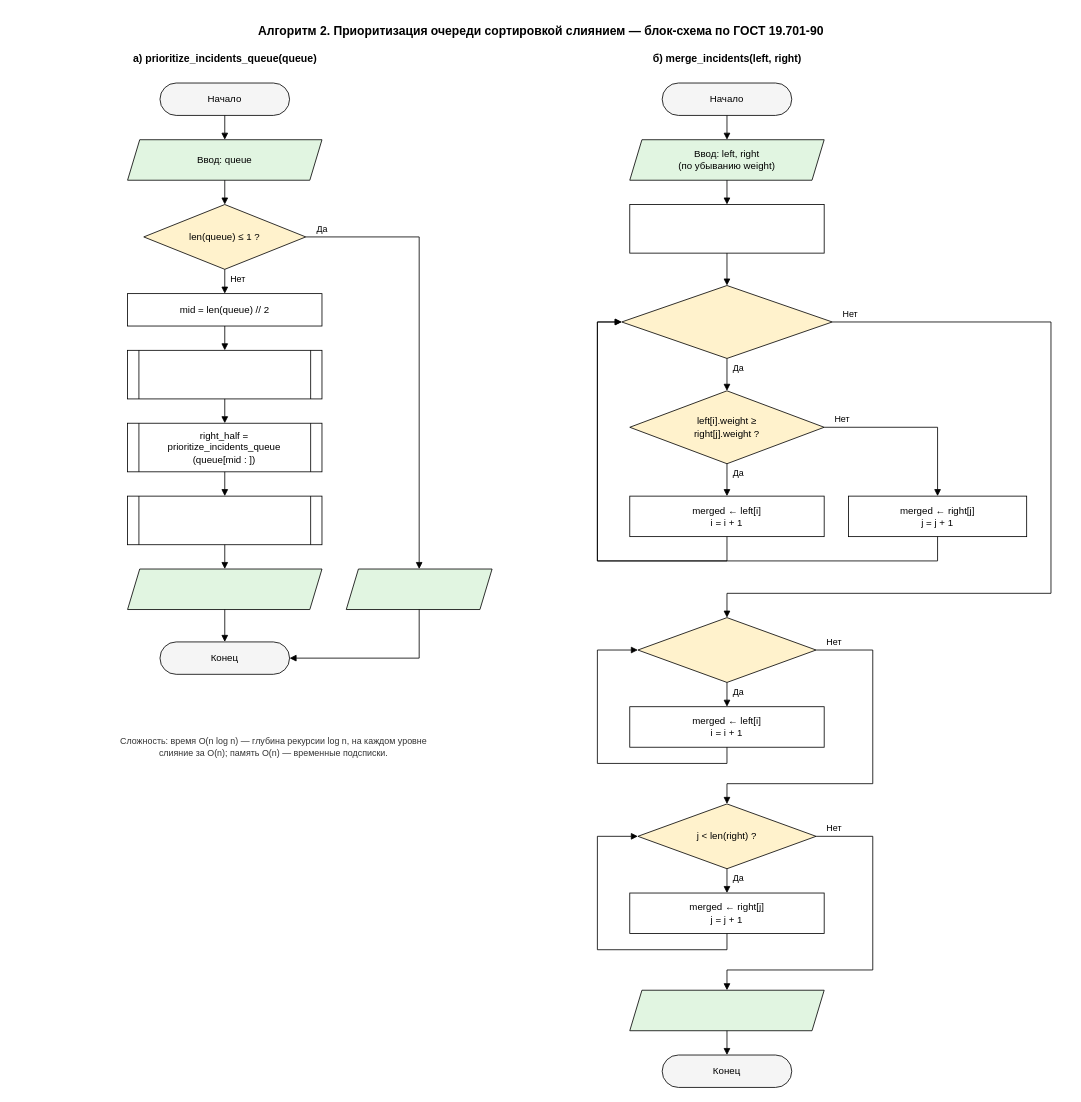
Some shapes in this 1081 by 1102 pixel diagram are drawn without their labels. The shapes that lost their labels are listed below. From the top down, each one's centre as x and y in pixels, then its label:
At (726,228): "merged = [ ] i = 0, j = 0".
At (726,321): "i < len(left) и j < len(right) ?".
At (224,374): "left_half = prioritize_incidents_queue (queue[0 : mid])".
At (224,520): "result = merge_incidents (left_half, right_half)".
At (224,589): "Вывод: result".
At (418,589): "Вывод: queue (базовый случай)".
At (726,649): "i < len(left) ?".
At (726,1010): "Вывод: merged".
